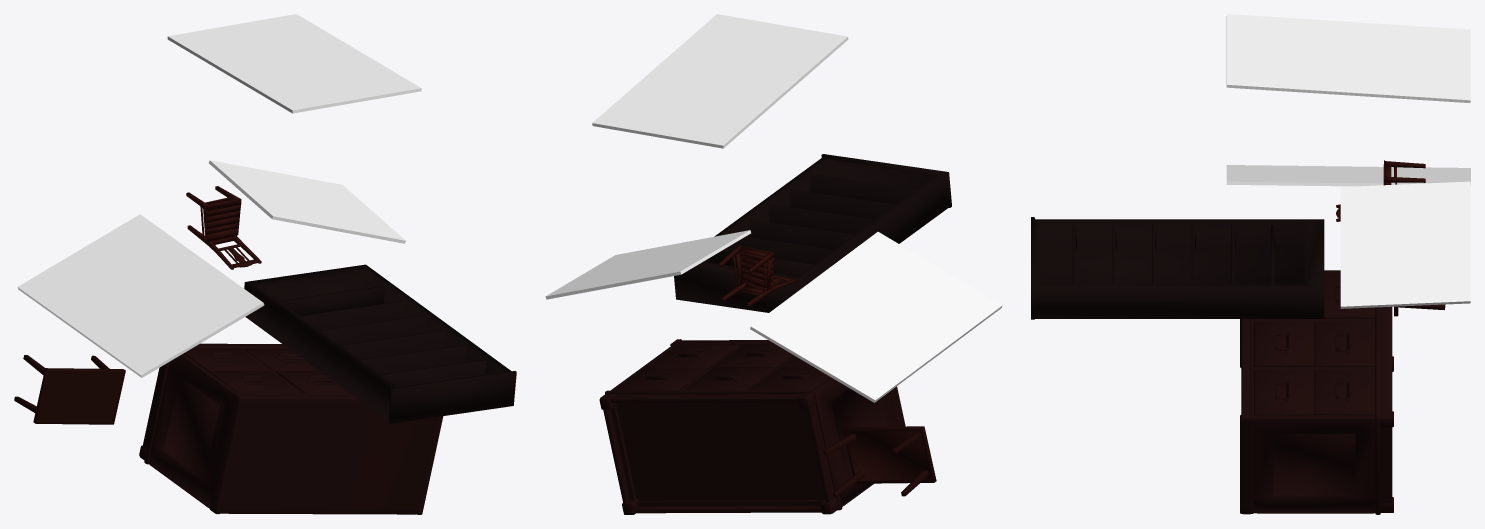
3 renders of one model, left to right at view 1: azimuth 30°, elevation 25°; view 2: azimuth 150°, elevation 25°; view 3: azimuth 270°, elevation 25°, orthographic. The views are drawn at different scales.
Parts seen in each view (by area): view 1: diffuse_cabinet_01, diffuse_shelf_03, glass_door_02, glass_door_01, glass_window_03, diffuse_table_02, diffuse_chair_04; view 2: diffuse_cabinet_01, glass_door_02, diffuse_shelf_03, glass_door_01, diffuse_table_02, glass_window_03, diffuse_chair_04; view 3: diffuse_cabinet_01, diffuse_shelf_03, glass_door_01, glass_window_03, glass_door_02, diffuse_chair_04.
Part boxes in pixels (left/top/right/bottom): diffuse_cabinet_01: left=139, top=343, right=443, bottom=514; diffuse_shelf_03: left=244, top=264, right=516, bottom=423; glass_door_02: left=17, top=214, right=264, bottom=377; glass_door_01: left=167, top=14, right=421, bottom=113; glass_window_03: left=209, top=160, right=405, bottom=243; diffuse_table_02: left=14, top=355, right=125, bottom=424; diffuse_chair_04: left=186, top=186, right=261, bottom=269; diffuse_cabinet_01: left=599, top=339, right=905, bottom=514; glass_door_02: left=750, top=232, right=1002, bottom=402; diffuse_shelf_03: left=674, top=154, right=951, bottom=312; glass_door_01: left=592, top=14, right=848, bottom=148; diffuse_table_02: left=823, top=426, right=936, bottom=497; glass_window_03: left=545, top=230, right=750, bottom=299; diffuse_chair_04: left=718, top=245, right=796, bottom=306; diffuse_cabinet_01: left=1240, top=270, right=1393, bottom=514; diffuse_shelf_03: left=1031, top=217, right=1324, bottom=319; glass_door_01: left=1226, top=14, right=1470, bottom=102; glass_window_03: left=1340, top=181, right=1470, bottom=308; glass_door_02: left=1226, top=165, right=1470, bottom=186; diffuse_chair_04: left=1336, top=160, right=1425, bottom=221.
Size of the model in its own units: 241 by 295 by 270.
